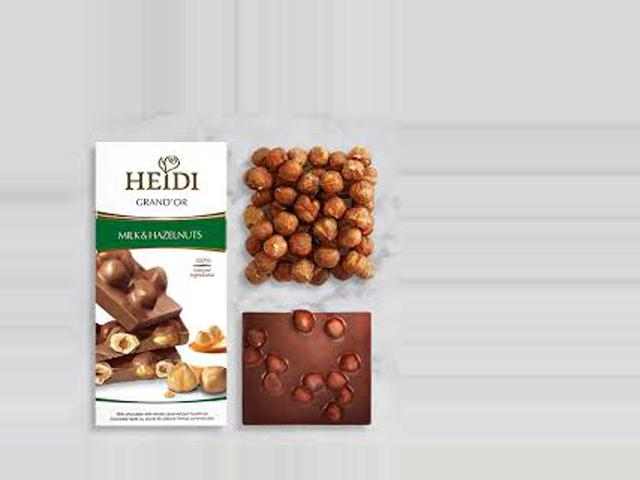chocolate: (235, 308, 385, 431)
